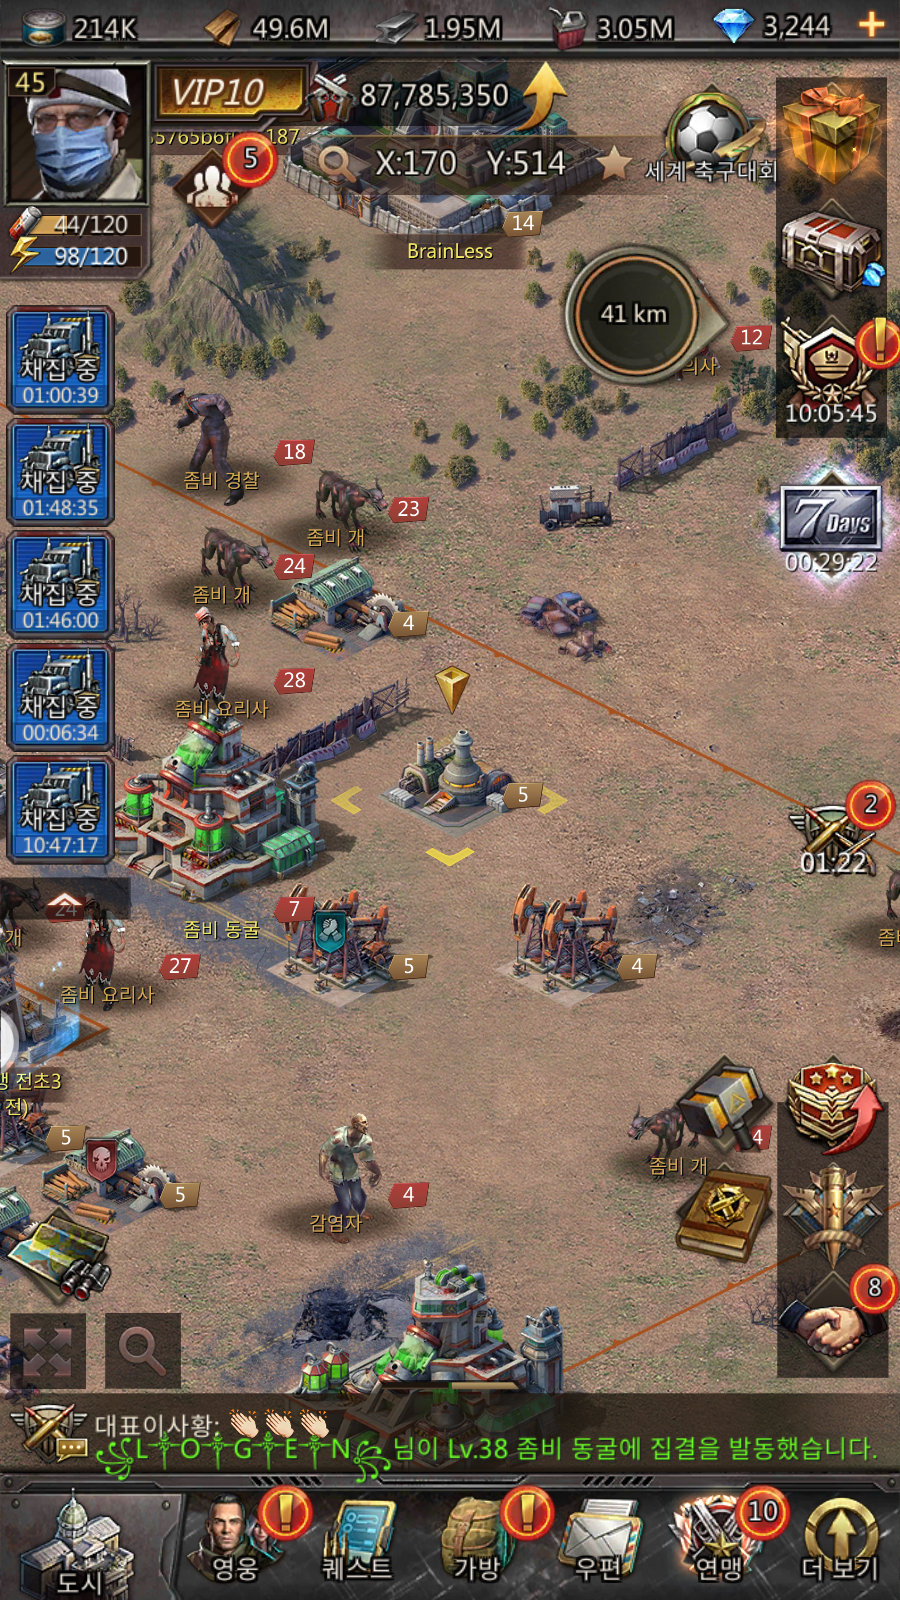city: (9, 1491, 177, 1600)
empty_steel: (324, 653, 587, 882)
open_panel: (100, 1305, 193, 1393)
troops_cnt_5: (165, 122, 287, 238)
